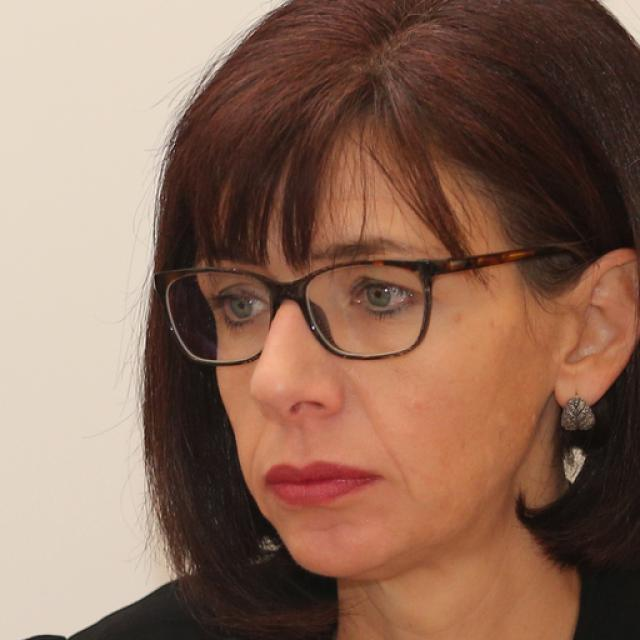neutral: (212, 128, 558, 578)
